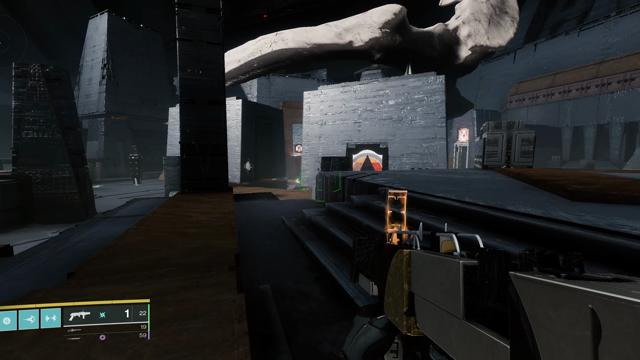pyramid: (352, 149, 383, 171)
